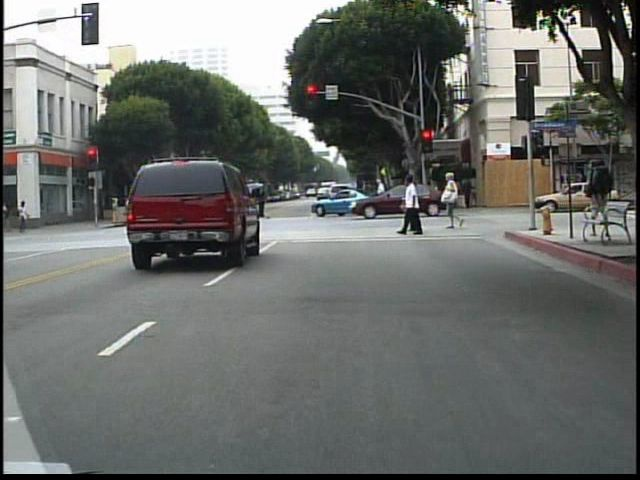person: (581, 152, 613, 206), (403, 176, 431, 237), (440, 173, 468, 231), (400, 176, 417, 233), (253, 179, 271, 227), (373, 176, 394, 216), (144, 190, 160, 232), (355, 179, 373, 216), (401, 178, 418, 216), (17, 201, 33, 236), (2, 200, 16, 235), (125, 193, 132, 230)
